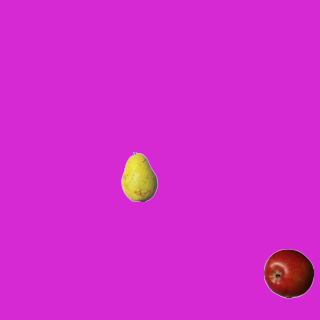Apple Braeburn: (263, 248, 313, 298)
Pear Monster: (114, 151, 164, 201)
